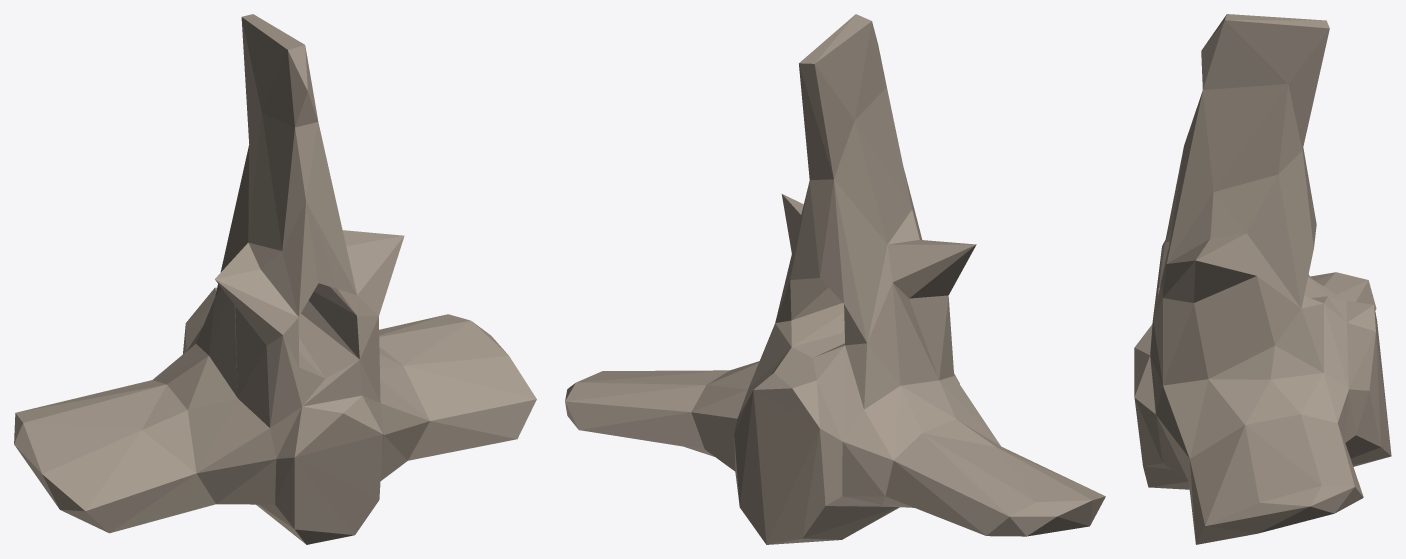
The model's file is SM_Bones_22.fbx.
3 views of the same model, side by side, from view 1: azimuth 30°, elevation 25°; view 2: azimuth 150°, elevation 25°; view 3: azimuth 270°, elevation 25° (orthographic). The views are drawn at different scales.
Parts seen in each view (by area): view 1: SM_Bones_22; view 2: SM_Bones_22; view 3: SM_Bones_22.
Part boxes in pixels (bbox=[...]): SM_Bones_22: bbox=[14, 14, 536, 544]; SM_Bones_22: bbox=[565, 14, 1105, 544]; SM_Bones_22: bbox=[1134, 14, 1391, 544].
Bounding box in the file's own units: 27.81 × 26.47 × 13.21.
Materials: 1 (1 with a texture image).
